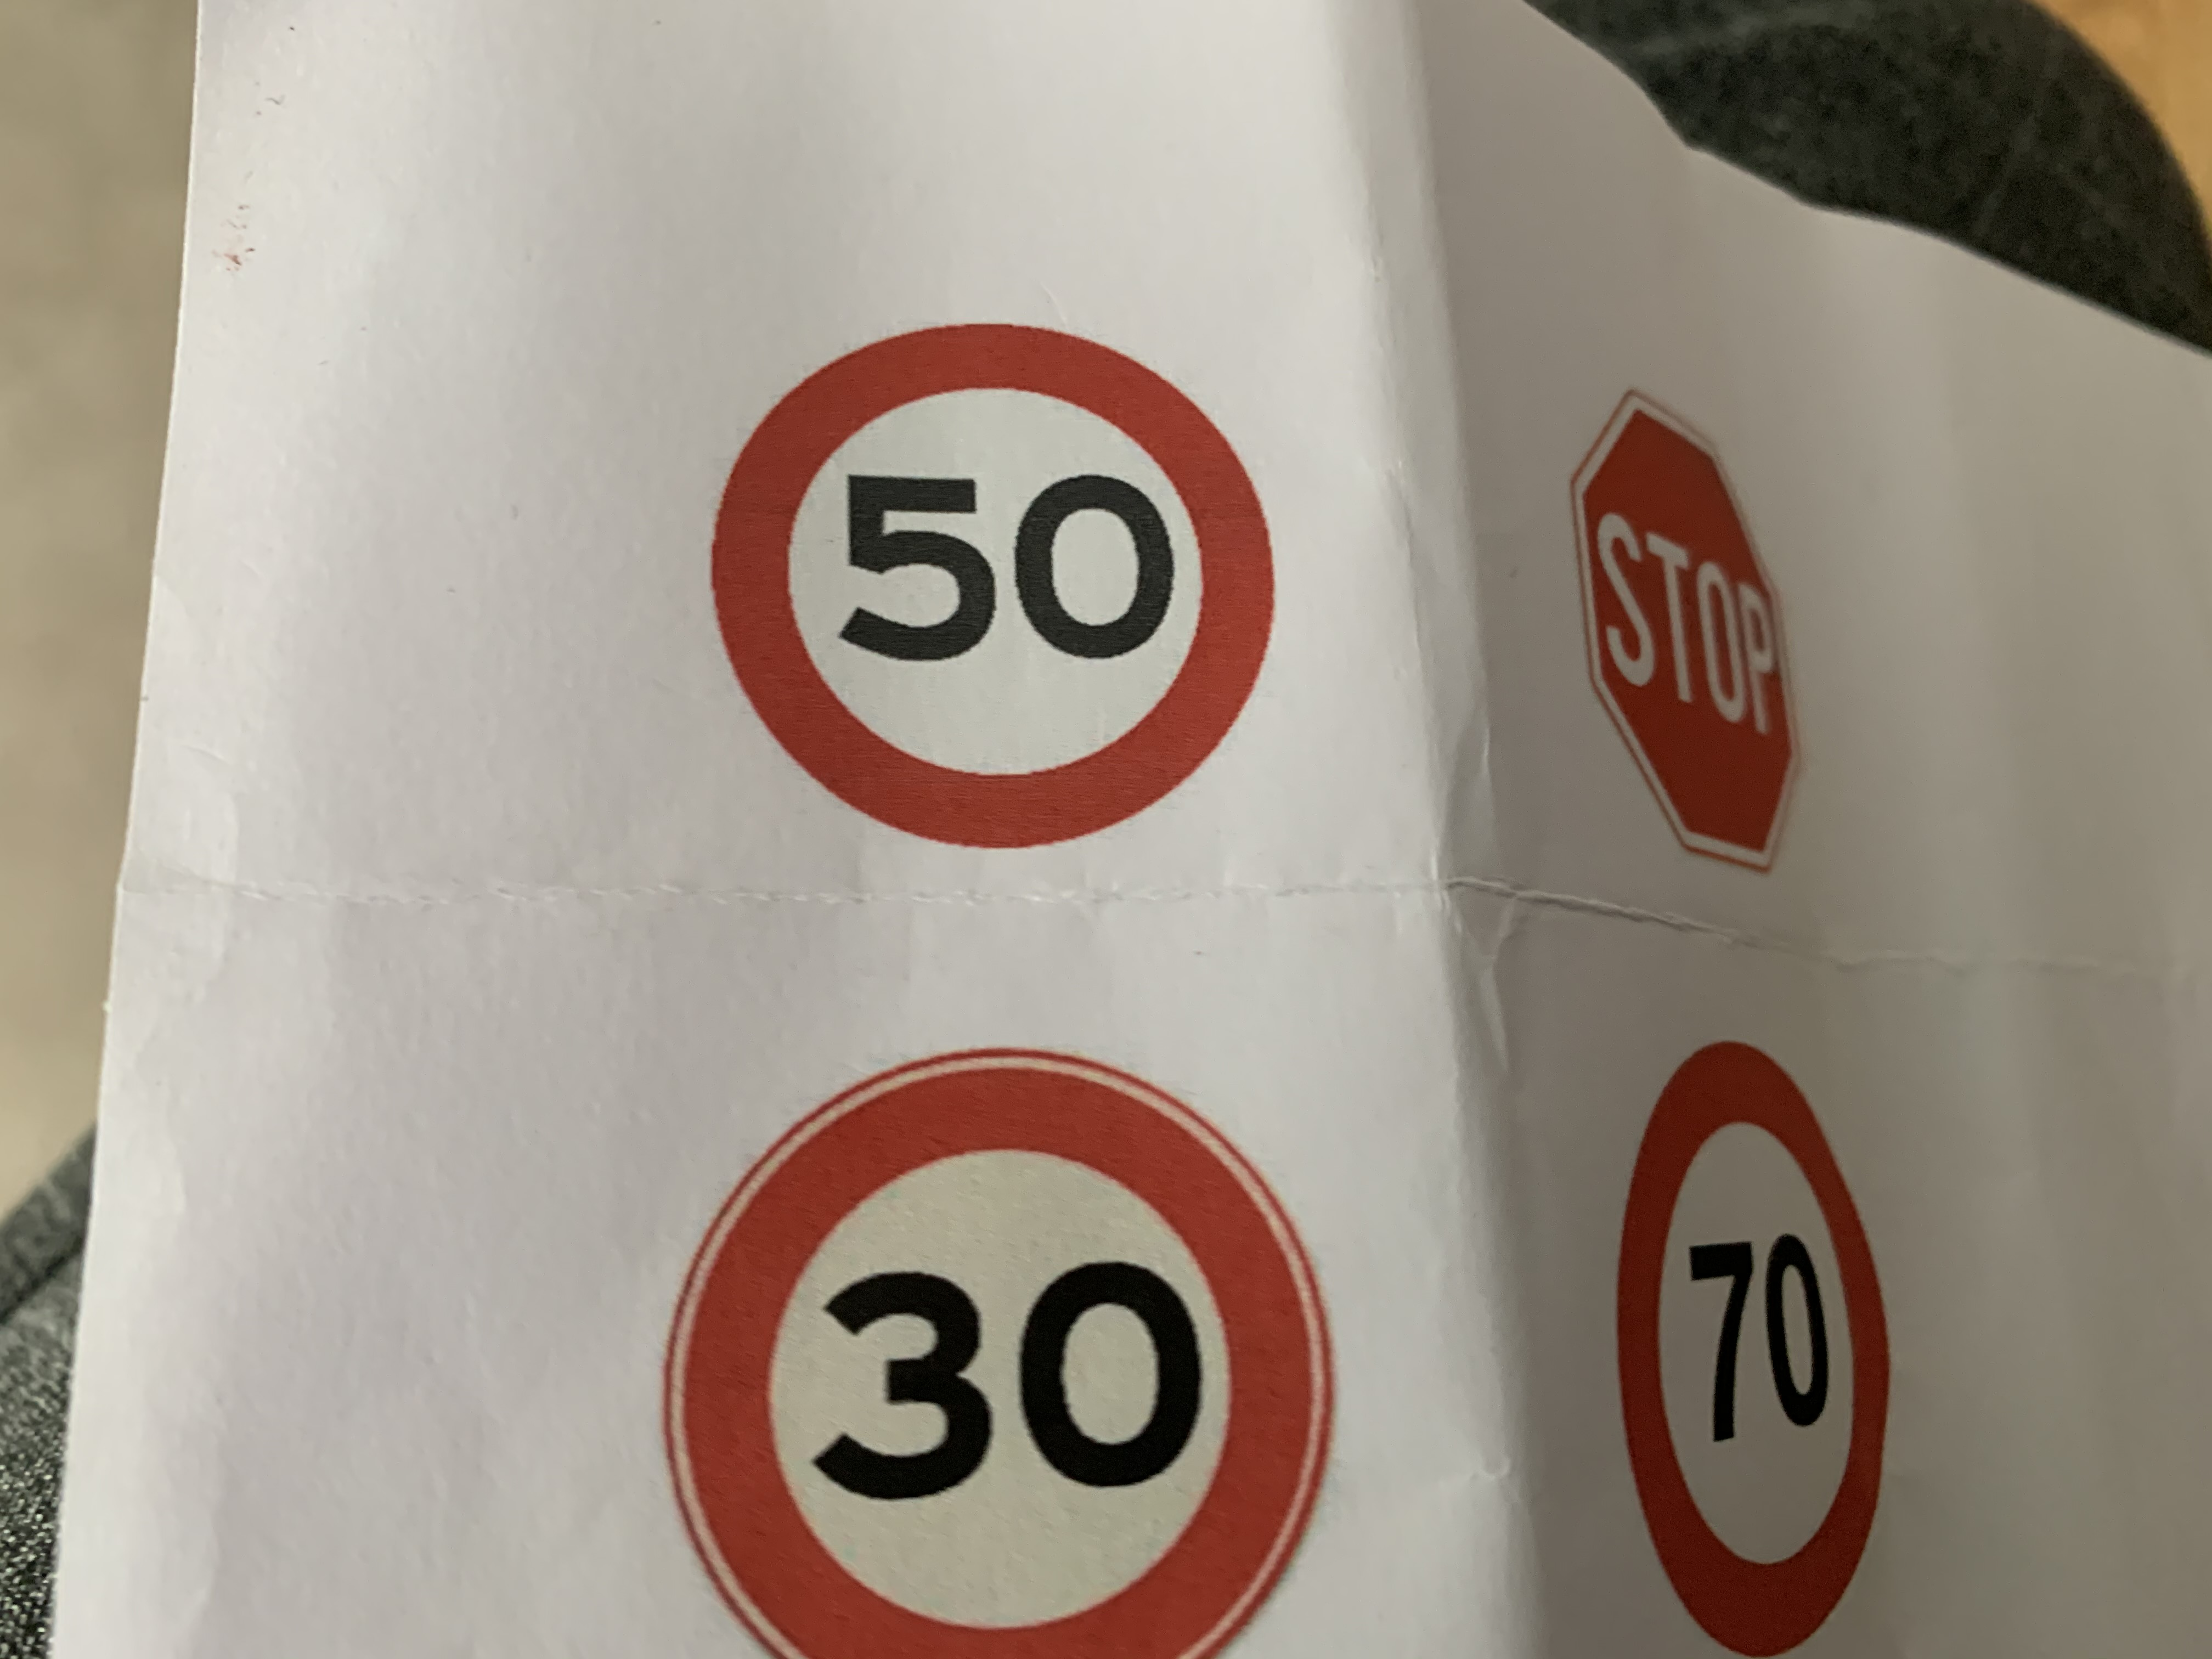30-limit: (669, 1019, 1343, 1659)
50-limit: (700, 305, 1282, 859)
70-limit: (1608, 1023, 1900, 1659)
stop-bord: (1533, 350, 1822, 889)
